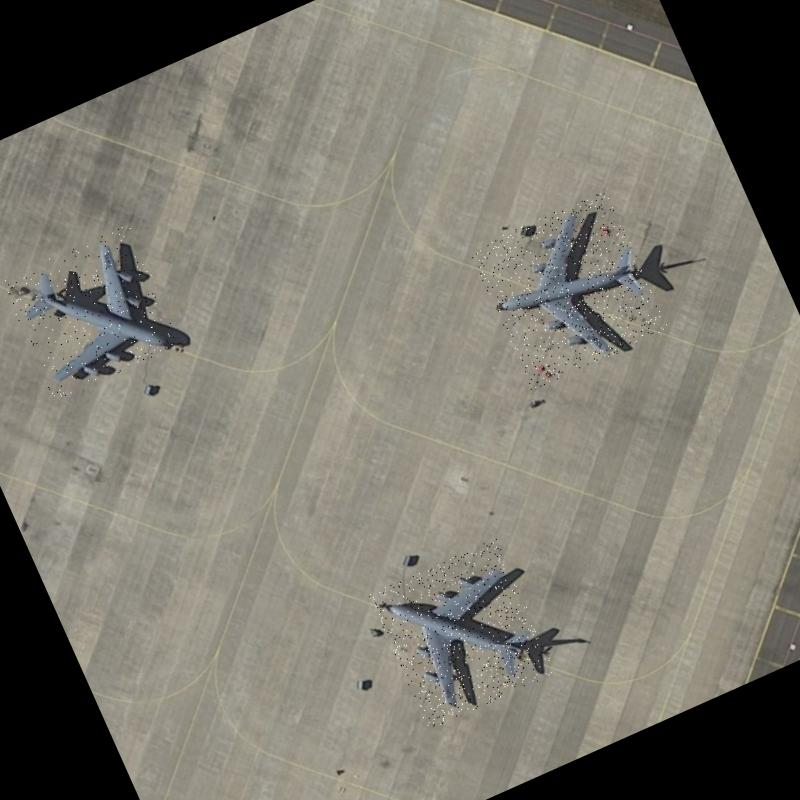A14: (469, 188, 670, 392), (368, 538, 556, 730), (1, 224, 183, 401)
